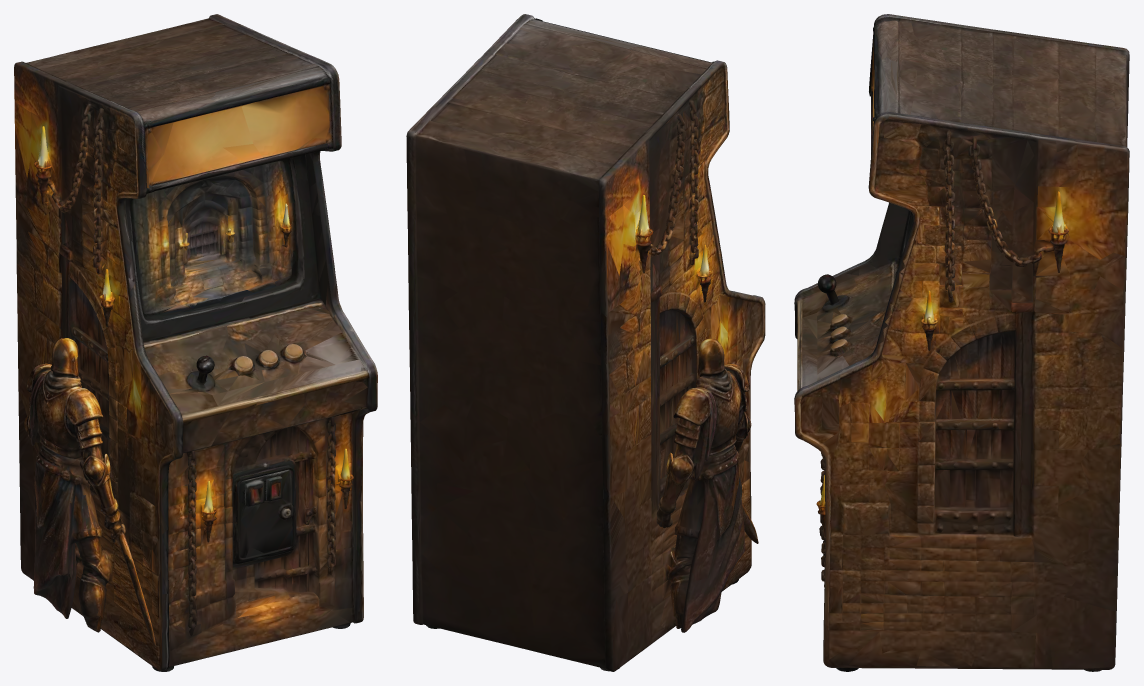
File: cab-quakeworld.glb
3 renders of one model, left to right at view 1: azimuth 30°, elevation 25°; view 2: azimuth 150°, elevation 25°; view 3: azimuth 270°, elevation 25°, orthographic. The views are drawn at different scales.
Visible parts, largest first — view 1: tripo_node_a926cd37-6dab-4636-ad32-c5005cd2fcef; view 2: tripo_node_a926cd37-6dab-4636-ad32-c5005cd2fcef; view 3: tripo_node_a926cd37-6dab-4636-ad32-c5005cd2fcef.
Boxes of the visible parts, x1=… form: tripo_node_a926cd37-6dab-4636-ad32-c5005cd2fcef: x1=14, y1=14, x2=377, y2=671; tripo_node_a926cd37-6dab-4636-ad32-c5005cd2fcef: x1=406, y1=14, x2=765, y2=671; tripo_node_a926cd37-6dab-4636-ad32-c5005cd2fcef: x1=794, y1=14, x2=1129, y2=671.
Bounding box in the file's own units: 0.5023 × 0.9788 × 0.5319.
1 material, 1 textured.
